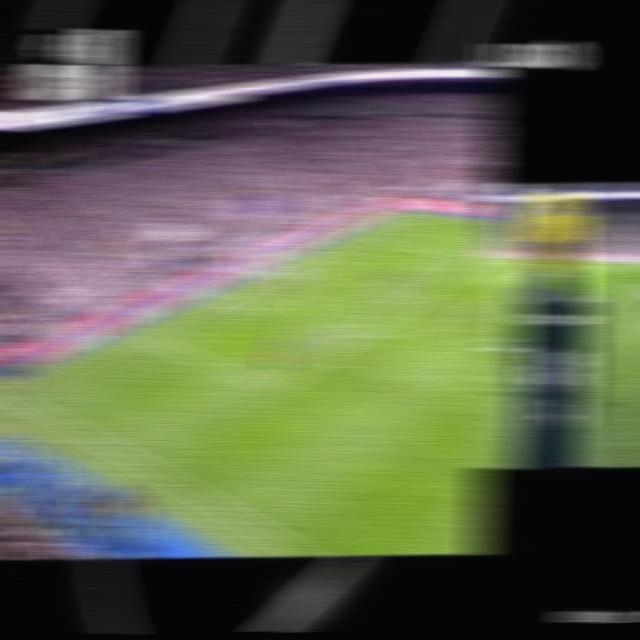bigarea_bottom_inner: (259, 376, 286, 398)
bigarea_bottom_outter: (127, 326, 153, 341)
bigarea_top_inner: (463, 251, 487, 265)
bigarea_top_outter: (347, 227, 371, 239)
bottom_arc_area_intersection: (342, 325, 369, 342)
corner: (395, 206, 418, 214)
smallarea_bottom_inner: (241, 303, 266, 319)
smallarea_bottom_outter: (204, 291, 230, 306)
smallarea_top_inner: (334, 259, 357, 269)
smallarea_top_outter: (302, 249, 325, 261)
top_arc_area_intersection: (413, 282, 439, 296)
